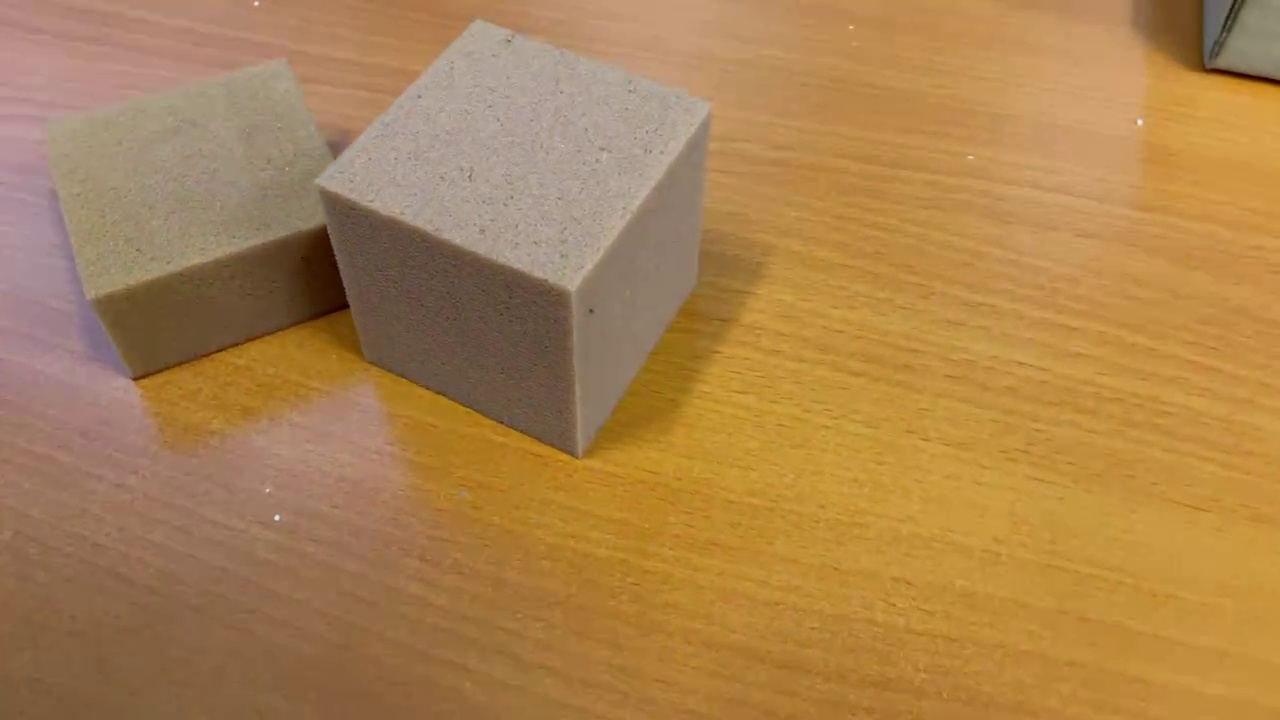Cube: (311, 17, 716, 463)
Cube_short: (36, 55, 350, 387)
